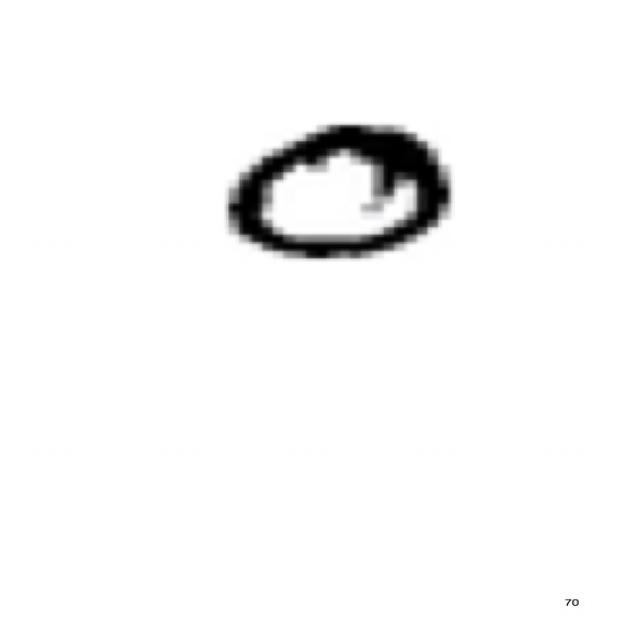5 -five-: (210, 112, 461, 272)
